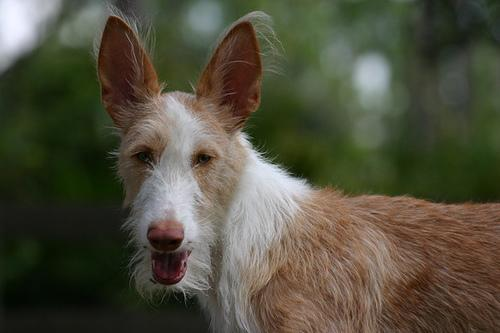Ibizan_hound: (94, 6, 499, 332)
